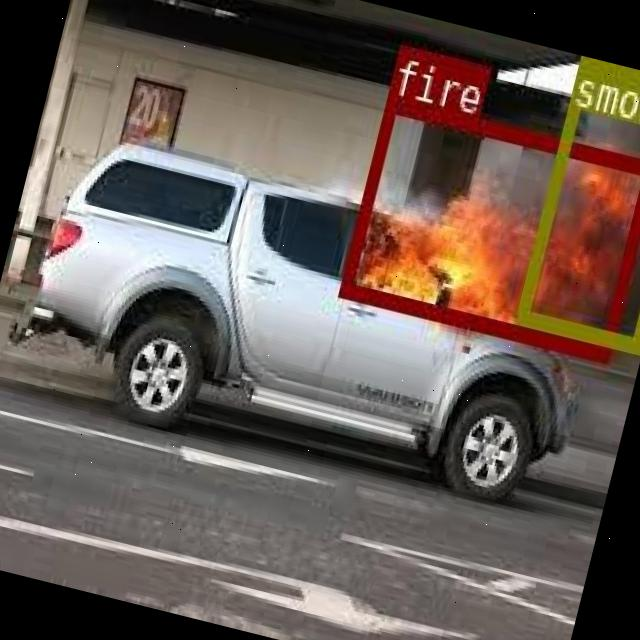fire: (336, 94, 640, 358)
smoke: (513, 54, 640, 348)
